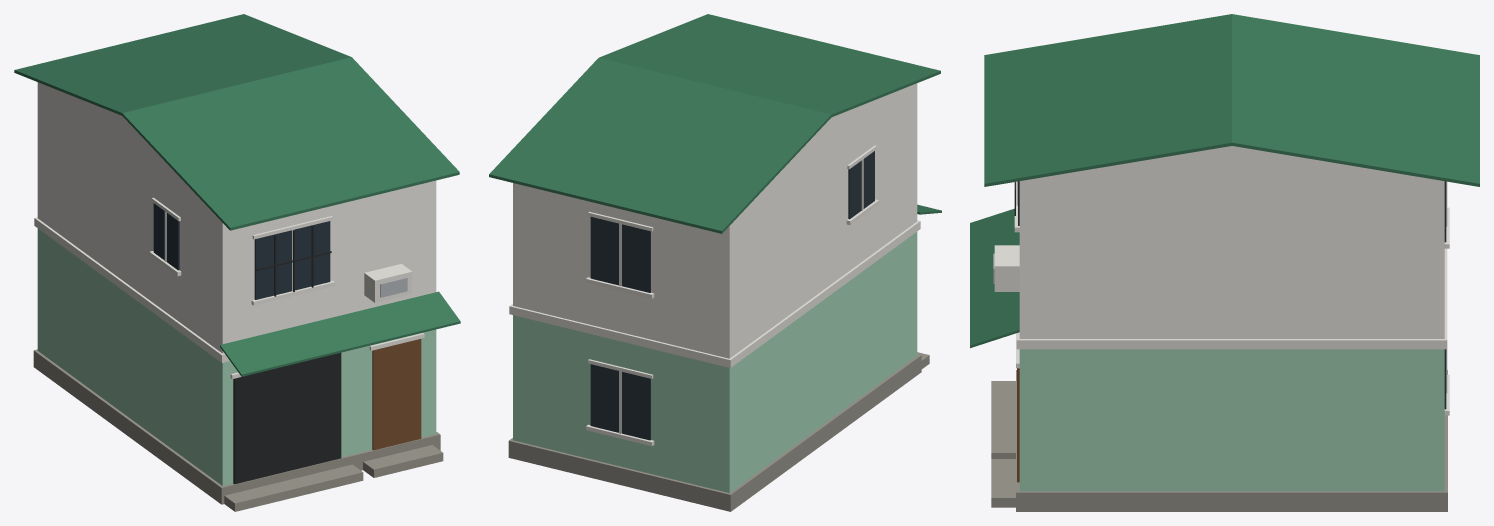
The model's file is BAY_F_TwoStorey_K.glb.
3 views of the same model, side by side, from view 1: azimuth 30°, elevation 25°; view 2: azimuth 150°, elevation 25°; view 3: azimuth 270°, elevation 25° (orthographic). The views are drawn at different scales.
Parts seen in each view (by area): view 1: BAY_F_TwoStorey_K; view 2: BAY_F_TwoStorey_K; view 3: BAY_F_TwoStorey_K.
Boxes of the visible parts, <box> form: BAY_F_TwoStorey_K: <box>14,14,460,511</box>; BAY_F_TwoStorey_K: <box>489,14,941,511</box>; BAY_F_TwoStorey_K: <box>970,14,1479,511</box>.
Size of the model in its own units: 4.3 by 5.8 by 7.2.
Materials: 1 (1 with a texture image).
